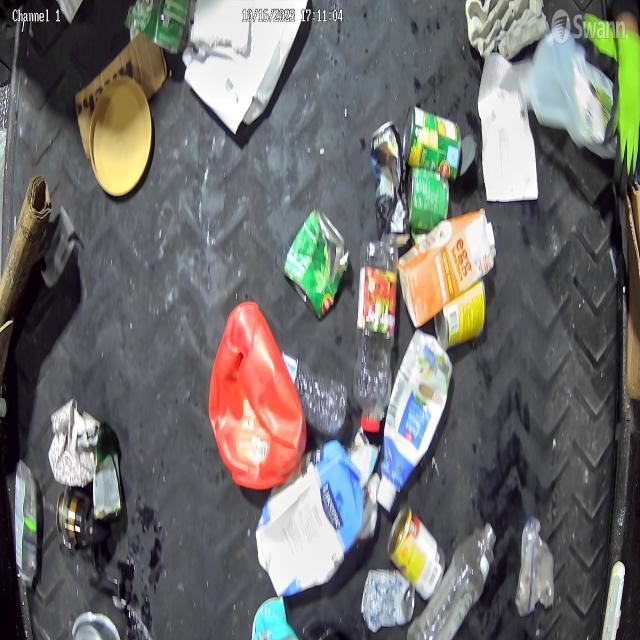can: (202, 302, 302, 484), (284, 209, 346, 317), (387, 505, 447, 600), (402, 104, 462, 179)
non_white_jug: (255, 438, 364, 600)
plastic_bottle: (407, 522, 496, 640), (352, 240, 399, 430)
